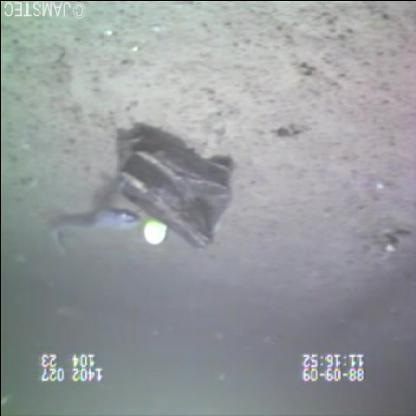Bio: (44, 200, 144, 264)
Rác: (113, 132, 241, 256)
